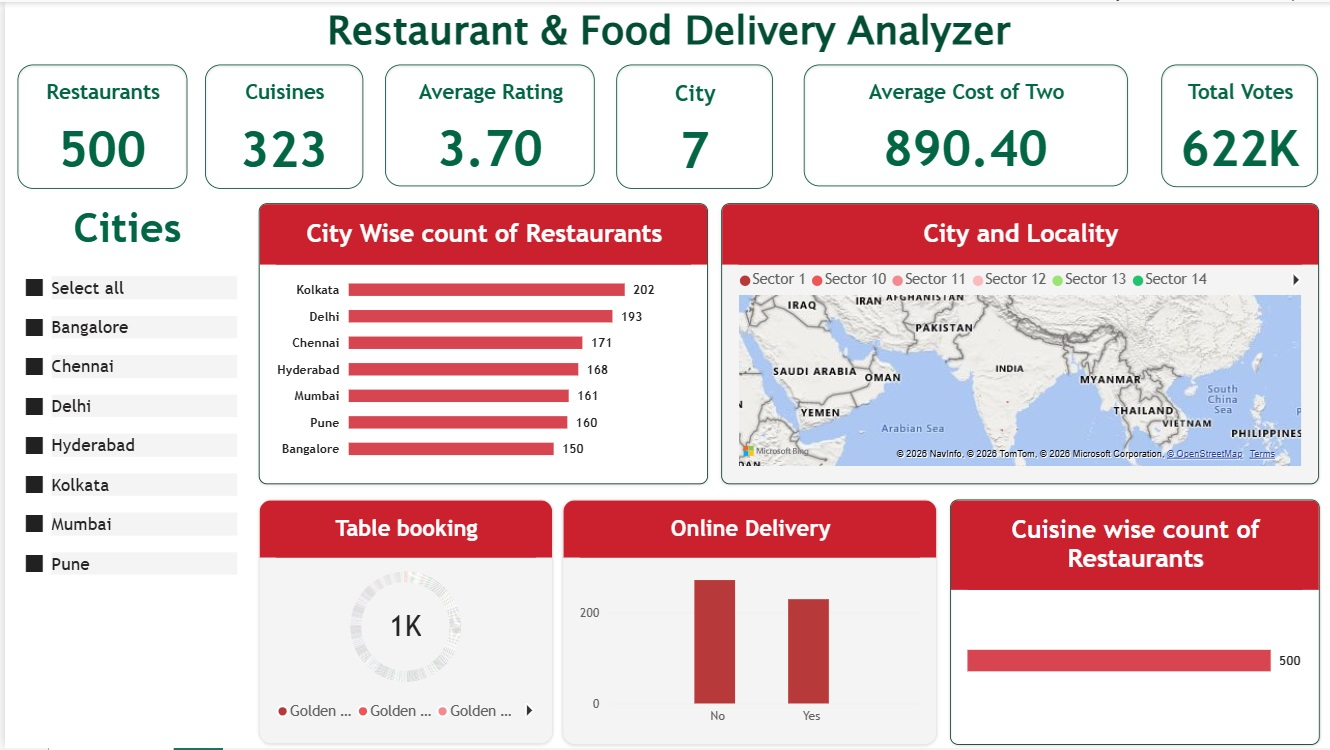

This screenshot's page, from the dashboard's own definition file:
{"tool":"powerbi","page":{"name":"Dashboard","canvas":[1280,720],"ordinal":0},"visuals":[{"type":"card","title":"Average Rating","fields":{"Values":["Avg(Sheet1.Rating)"]},"box":[366.2,60,202.5,117.5],"z":2000},{"type":"card","title":"Cuisines","fields":{"Values":["Count(Sheet1.Cuisines)"]},"box":[192.5,60,152.5,120],"z":3000},{"type":"card","title":"Restaurants","fields":{"Values":["Count(Sheet1.RestaurantID)"]},"box":[12.5,60,163.8,120],"z":4000},{"type":"card","title":"City","fields":{"Values":["Count(Sheet1.City)"]},"box":[590,60,151.2,120],"z":5000},{"type":"textbox","box":[1.5,0,1279.2,60.3],"z":6000},{"type":"donutChart","title":"Table booking ","fields":{"Category":["Sheet1.RestaurantName"],"Y":["Sum(Sheet1.Price_range)"]},"box":[245.3,480.2,283.7,236],"z":7000},{"type":"columnChart","title":"Online Delivery","fields":{"Category":["Sheet1.Has_Online_delivery"],"Y":["CountNonNull(Sheet1.Has_Online_delivery)"]},"box":[538.3,480,361.7,236.7],"z":8000},{"type":"clusteredBarChart","title":"Cuisine wise count of Restaurants","fields":{"Y":["CountNonNull(Sheet1.Cuisines)"]},"box":[911.7,480,356.7,236.7],"z":9000},{"type":"clusteredBarChart","title":"City Wise count of Restaurants","fields":{"Category":["Sheet1.City"],"Y":["Sum(Sheet1.Price_range)"]},"box":[245.3,194.2,433.7,270.9],"z":10000},{"type":"filledMap","fields":{"Category":["Sheet2.City"],"Series":["Sheet1.Locality"]},"box":[691.9,194.2,576.7,270.9],"z":11000},{"type":"card","title":"Average Cost of Two","fields":{"Values":["Avg(Sheet1.Average_Cost_for_two)"]},"box":[771.2,60,312.5,117.5],"z":14000},{"type":"card","title":"Total Votes","fields":{"Values":["Sum(Sheet1.Votes)"]},"box":[1116.2,60,151.2,118.8],"z":15000},{"type":"slicer","title":"Cities","fields":{"Values":["Sheet2.City"]},"box":[12.1,194.2,212.3,522.4],"z":15001}]}

Visuals, with their boxes in screenshot pixels (x1, y1, x2, y2), scaled from the page's 1280x720 canvas onto the 1330x750 screenshot:
"Average Rating" card: 381,63,591,185
"Cuisines" card: 200,63,358,188
"Restaurants" card: 13,63,183,188
"City" card: 613,63,770,188
textbox: 2,0,1329,63
"Table booking " donutChart: 255,500,550,746
"Online Delivery" columnChart: 559,500,935,747
"Cuisine wise count of Restaurants" clusteredBarChart: 947,500,1318,747
"City Wise count of Restaurants" clusteredBarChart: 255,202,706,484
filledMap - Sheet2.City x Sheet1.Locality: 719,202,1318,484
"Average Cost of Two" card: 801,63,1126,185
"Total Votes" card: 1160,63,1317,186
"Cities" slicer: 13,202,233,746
